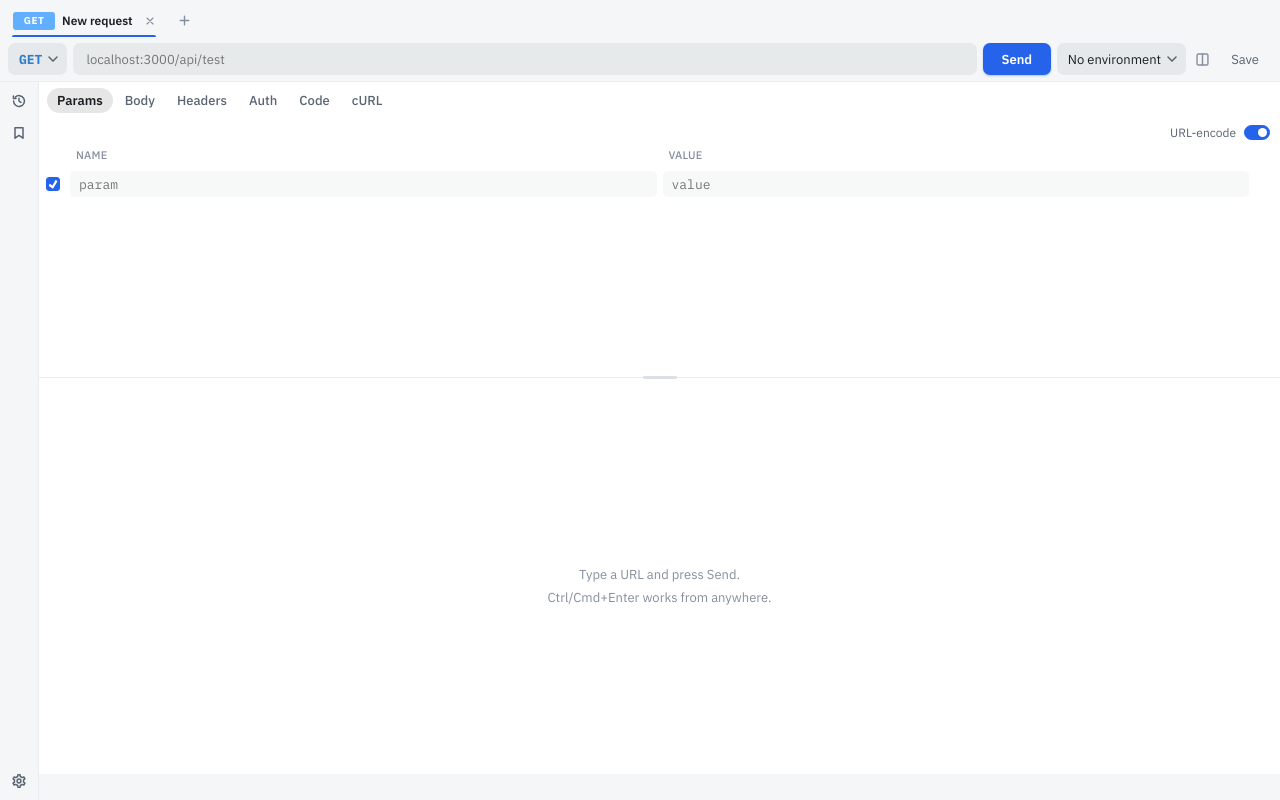
Scenario: sending › falls back to a size for a binary body
Type "localhost:3000/file" into the field named "URL".
click(525, 59); type("localhost:3000/file")  # box [73,43,977,75]
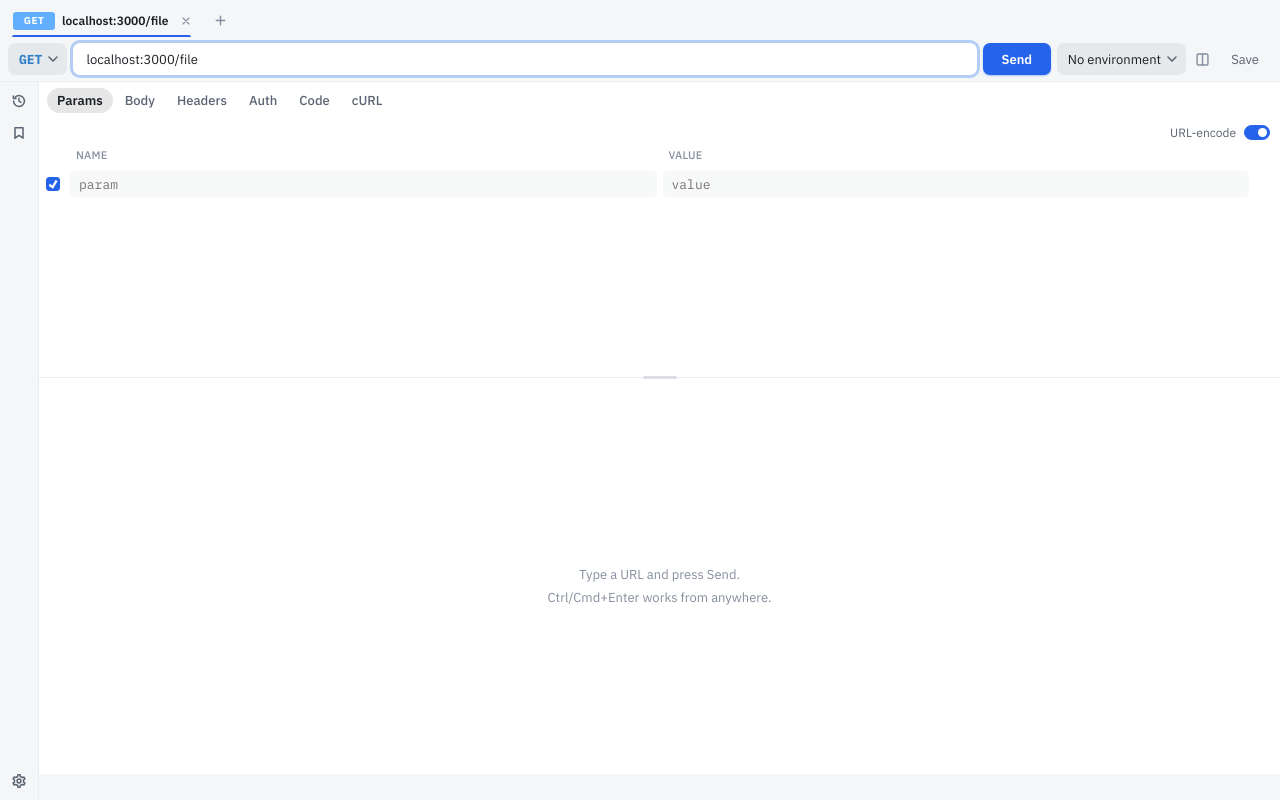
Click the button "Send".
click(1017, 59)  # box [983,43,1051,75]
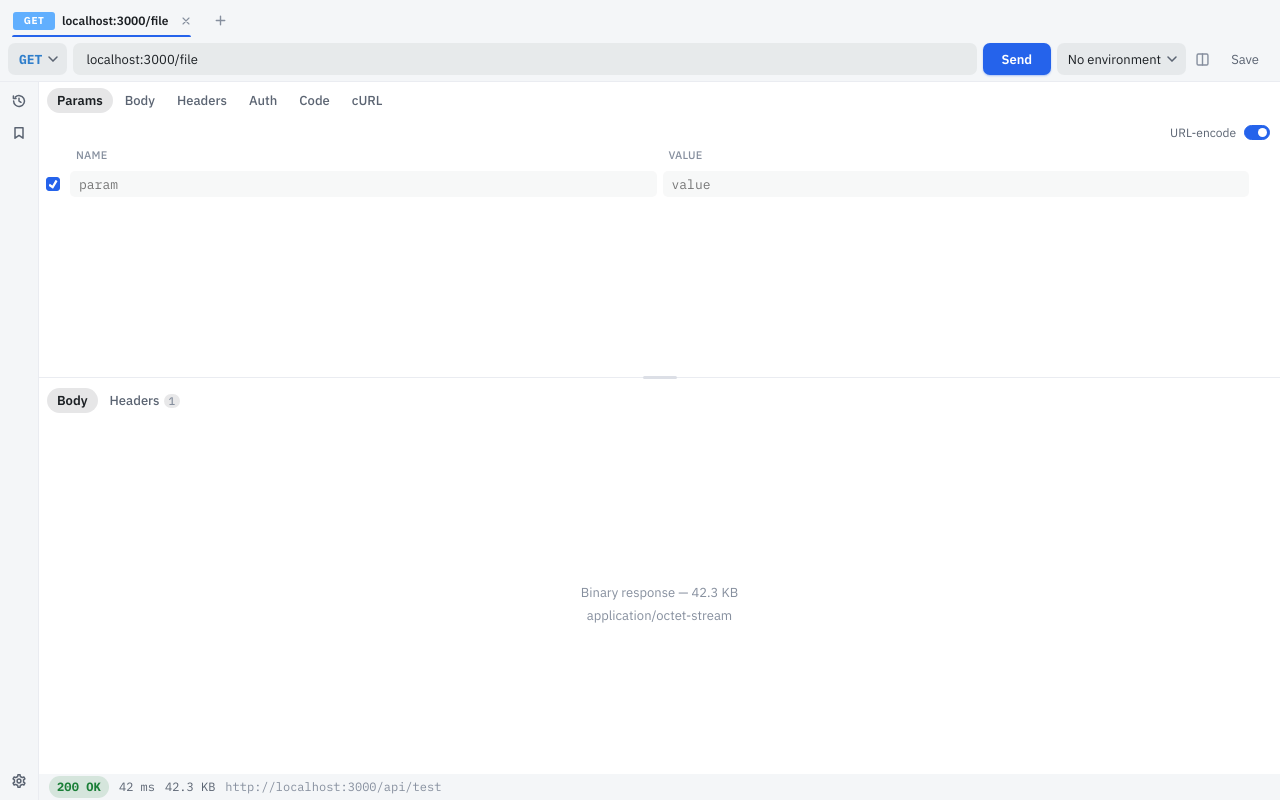
Expected: the text "Binary response — 42.3 KB" is shown, [581,584,738,603]
Expected: the text "application/octet-stream" is shown, [587,607,732,626]
